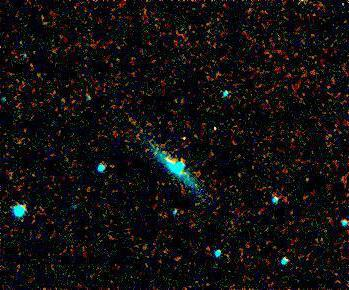star: (171, 124, 201, 154)
